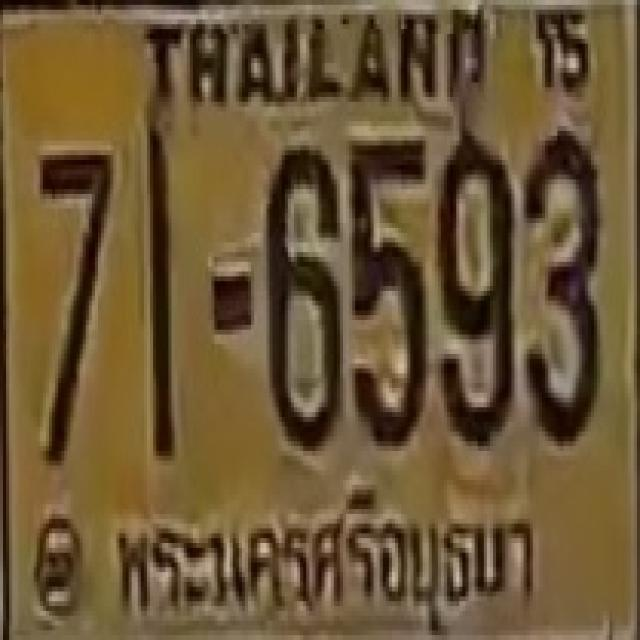3: (522, 126, 599, 436)
5: (348, 138, 424, 444)
6: (263, 143, 340, 444)
7: (37, 148, 110, 458)
9: (435, 131, 511, 441)
AYA: (101, 470, 542, 640)
